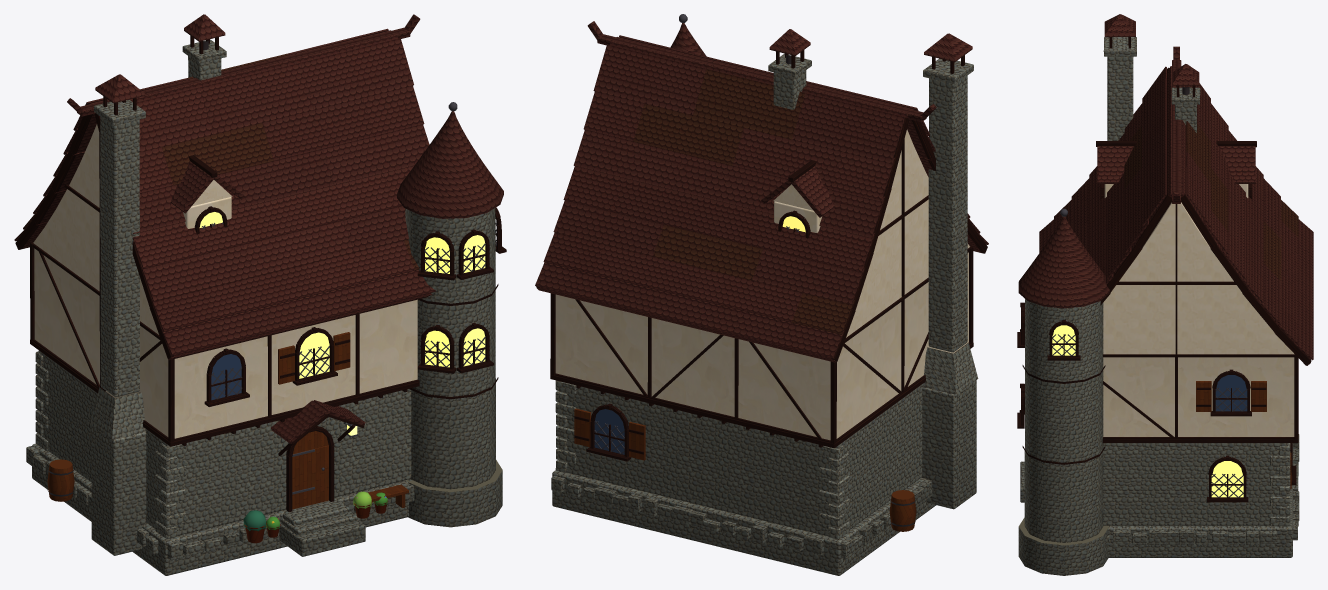
File: fantasy_house_realistic.gltf
3 views of the same model, side by side, from view 1: azimuth 30°, elevation 25°; view 2: azimuth 150°, elevation 25°; view 3: azimuth 270°, elevation 25° (orthographic). The views are drawn at different scales.
Parts seen in each view (by area): view 1: fantasy_house_realistic_roof_LOD0, fantasy_house_realistic_base_LOD0, fantasy_house_realistic_wall_LOD0, fantasy_house_realistic_trim_LOD0, fantasy_house_realistic_door_LOD0, fantasy_house_realistic_glow_FFB65A_LOD0, fantasy_house_realistic_metal_LOD0, fantasy_house_realistic_glass_LOD0, fantasy_house_realistic_flora_LOD0; view 2: fantasy_house_realistic_roof_LOD0, fantasy_house_realistic_base_LOD0, fantasy_house_realistic_wall_LOD0, fantasy_house_realistic_trim_LOD0, fantasy_house_realistic_door_LOD0, fantasy_house_realistic_glass_LOD0, fantasy_house_realistic_metal_LOD0; view 3: fantasy_house_realistic_base_LOD0, fantasy_house_realistic_roof_LOD0, fantasy_house_realistic_wall_LOD0, fantasy_house_realistic_trim_LOD0, fantasy_house_realistic_glow_FFB65A_LOD0, fantasy_house_realistic_door_LOD0, fantasy_house_realistic_glass_LOD0, fantasy_house_realistic_metal_LOD0.
Boxes of the visible parts, x1,y1,x2,y2 form: fantasy_house_realistic_roof_LOD0: [14, 14, 503, 443]; fantasy_house_realistic_base_LOD0: [26, 39, 502, 575]; fantasy_house_realistic_wall_LOD0: [33, 124, 417, 438]; fantasy_house_realistic_trim_LOD0: [15, 36, 506, 512]; fantasy_house_realistic_door_LOD0: [47, 332, 408, 543]; fantasy_house_realistic_glow_FFB65A_LOD0: [199, 212, 485, 378]; fantasy_house_realistic_metal_LOD0: [47, 40, 496, 496]; fantasy_house_realistic_glass_LOD0: [211, 354, 241, 400]; fantasy_house_realistic_flora_LOD0: [243, 491, 387, 531]; fantasy_house_realistic_roof_LOD0: [535, 21, 988, 362]; fantasy_house_realistic_base_LOD0: [551, 53, 978, 575]; fantasy_house_realistic_wall_LOD0: [555, 129, 969, 440]; fantasy_house_realistic_trim_LOD0: [536, 50, 987, 461]; fantasy_house_realistic_door_LOD0: [574, 408, 916, 531]; fantasy_house_realistic_glass_LOD0: [594, 409, 624, 454]; fantasy_house_realistic_metal_LOD0: [594, 14, 915, 526]; fantasy_house_realistic_base_LOD0: [1018, 37, 1299, 575]; fantasy_house_realistic_roof_LOD0: [1018, 14, 1313, 365]; fantasy_house_realistic_wall_LOD0: [1103, 184, 1294, 436]; fantasy_house_realistic_trim_LOD0: [1017, 37, 1311, 502]; fantasy_house_realistic_glow_FFB65A_LOD0: [1052, 325, 1243, 497]; fantasy_house_realistic_door_LOD0: [1196, 381, 1291, 489]; fantasy_house_realistic_glass_LOD0: [1215, 375, 1247, 411]; fantasy_house_realistic_metal_LOD0: [1052, 87, 1247, 497].
Size of what is drawn, in the model's own units: 11.13 by 14.11 by 9.06.
10 materials, 5 textured.
